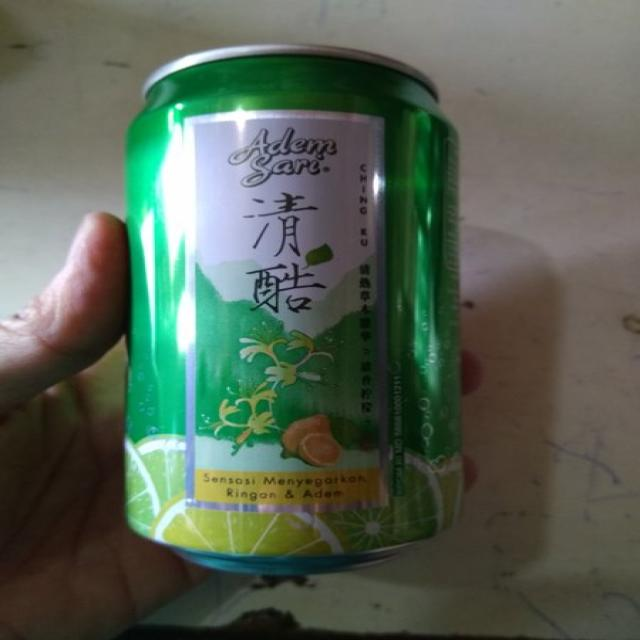ademsarikaleng: (120, 42, 465, 576)
